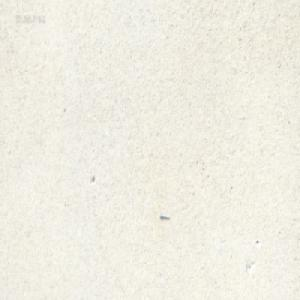Nail: (159, 212, 170, 219)
